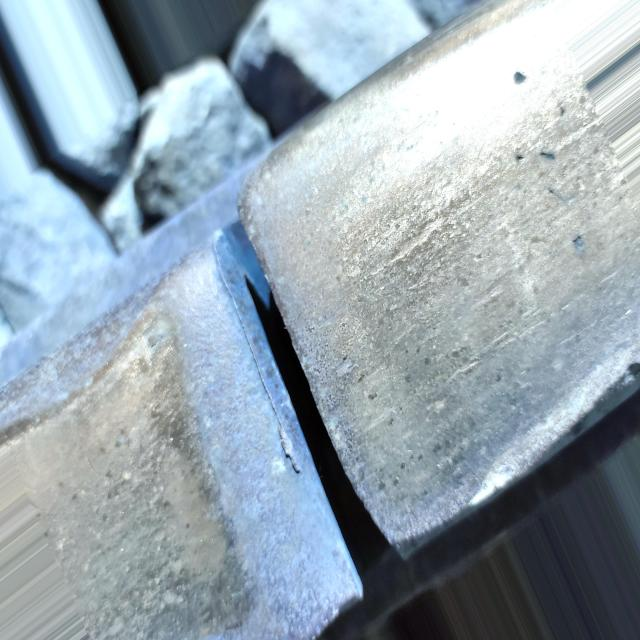crack: (154, 165, 449, 618)
